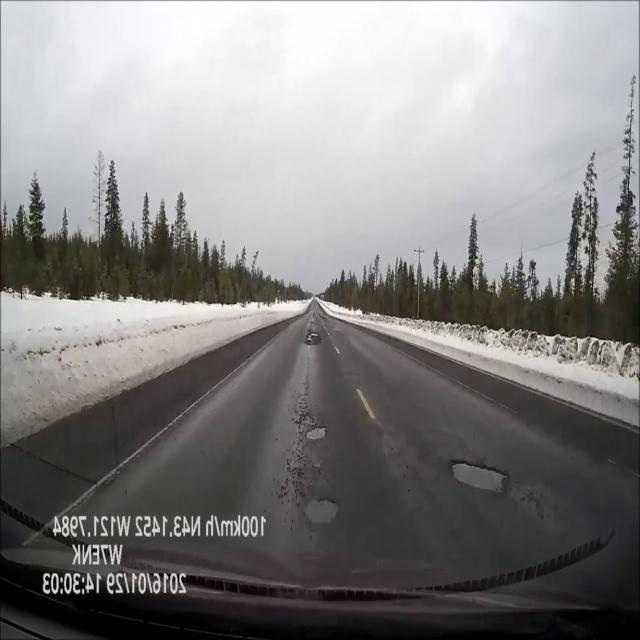pothole: (448, 458, 512, 494), (302, 495, 341, 528), (303, 424, 331, 442), (306, 331, 320, 345), (320, 317, 327, 322), (312, 312, 315, 319)
